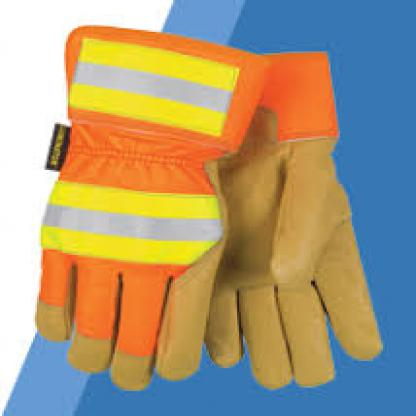with_gloves: (31, 25, 268, 393), (204, 52, 383, 392)
